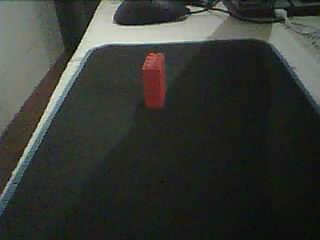lego: (142, 51, 166, 107)
